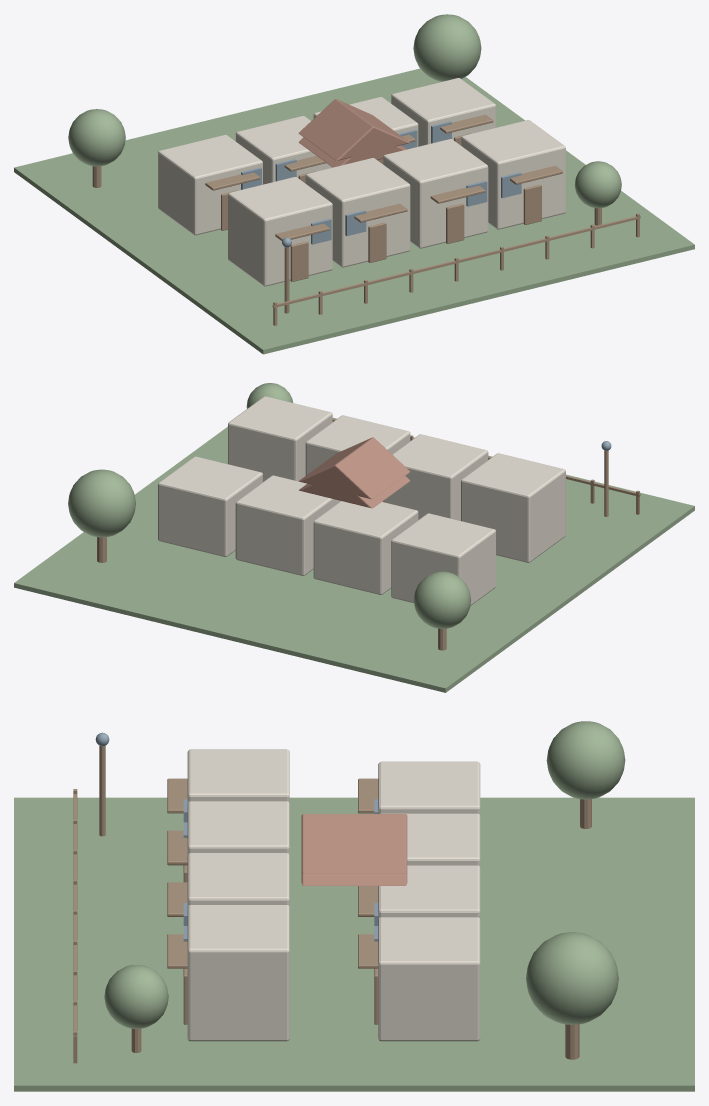
File: residence.glb
3 views of the same model, one above another, from view 1: azimuth 30°, elevation 25°; view 2: azimuth 150°, elevation 25°; view 3: azimuth 270°, elevation 25° (orthographic). The views are drawn at different scales.
Visible parts, largest first — view 1: Ground, House10, House12, House11, House13, House00, House03, Roof10, TreeB_crown, House01, TreeA_crown, TreeC_crown (+7 smaller); view 2: Ground, House10, House03, House01, House02, House00, House13, House11, Roof10, TreeB_crown, House12, TreeA_crown (+2 smaller); view 3: Ground, House13, House03, TreeB_crown, Roof10, House10, House00, House11, House12, TreeA_crown, House02, House01 (+11 smaller).
Part boxes in pixels (bbox=[...]): Ground: bbox=[14, 68, 694, 354]; House10: bbox=[228, 177, 332, 286]; House12: bbox=[383, 139, 488, 248]; House11: bbox=[305, 158, 410, 267]; House13: bbox=[461, 120, 565, 229]; House00: bbox=[158, 134, 262, 235]; House03: bbox=[391, 78, 495, 146]; Roof10: bbox=[298, 99, 409, 160]; TreeB_crown: bbox=[413, 14, 481, 81]; House01: bbox=[235, 116, 332, 184]; TreeA_crown: bbox=[68, 109, 125, 166]; TreeC_crown: bbox=[574, 161, 621, 208]; Ground: bbox=[14, 417, 694, 692]; House10: bbox=[461, 453, 565, 562]; House03: bbox=[158, 456, 262, 556]; House01: bbox=[313, 501, 418, 594]; House02: bbox=[235, 475, 340, 575]; House00: bbox=[391, 513, 495, 605]; House13: bbox=[228, 396, 332, 481]; House11: bbox=[383, 434, 488, 520]; Roof10: bbox=[299, 437, 409, 499]; TreeB_crown: bbox=[68, 469, 135, 537]; House12: bbox=[305, 415, 410, 501]; TreeA_crown: bbox=[413, 571, 471, 628]; Ground: bbox=[14, 797, 694, 1091]; House13: bbox=[187, 905, 289, 1041]; House03: bbox=[378, 917, 480, 1041]; TreeB_crown: bbox=[526, 932, 618, 1024]; Roof10: bbox=[301, 814, 407, 873]; House10: bbox=[187, 749, 289, 802]; House00: bbox=[378, 761, 480, 814]; House11: bbox=[187, 801, 289, 854]; House12: bbox=[187, 853, 289, 906]; TreeA_crown: bbox=[546, 721, 625, 799]; House02: bbox=[378, 865, 480, 918]; House01: bbox=[380, 813, 480, 866].
Size of the model in its own units: 20 by 4.33 by 20.
